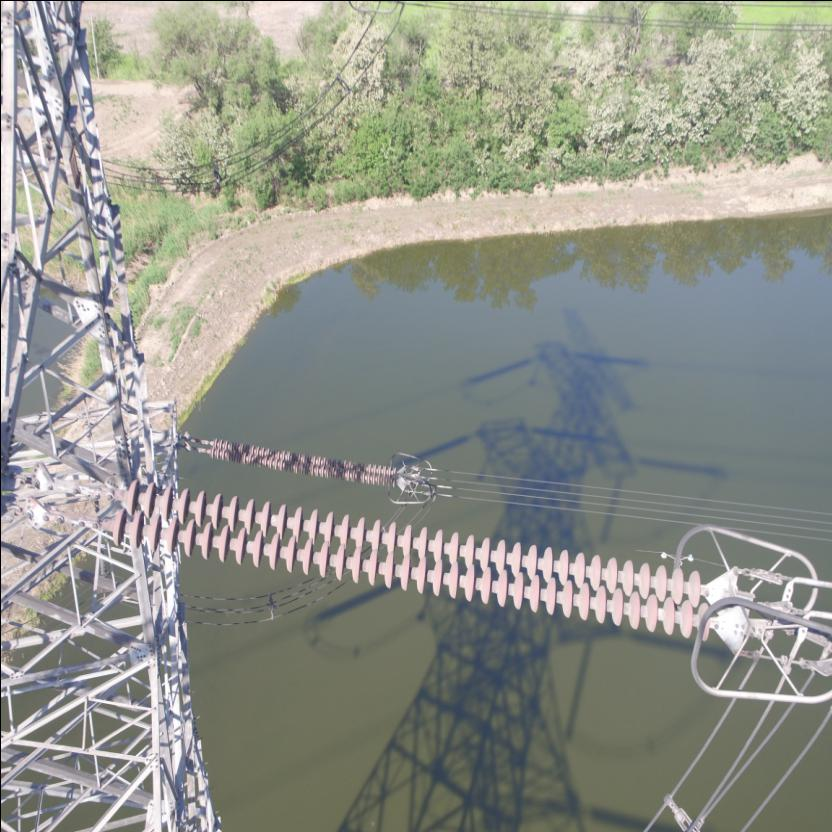insulator: (48, 471, 730, 646)
